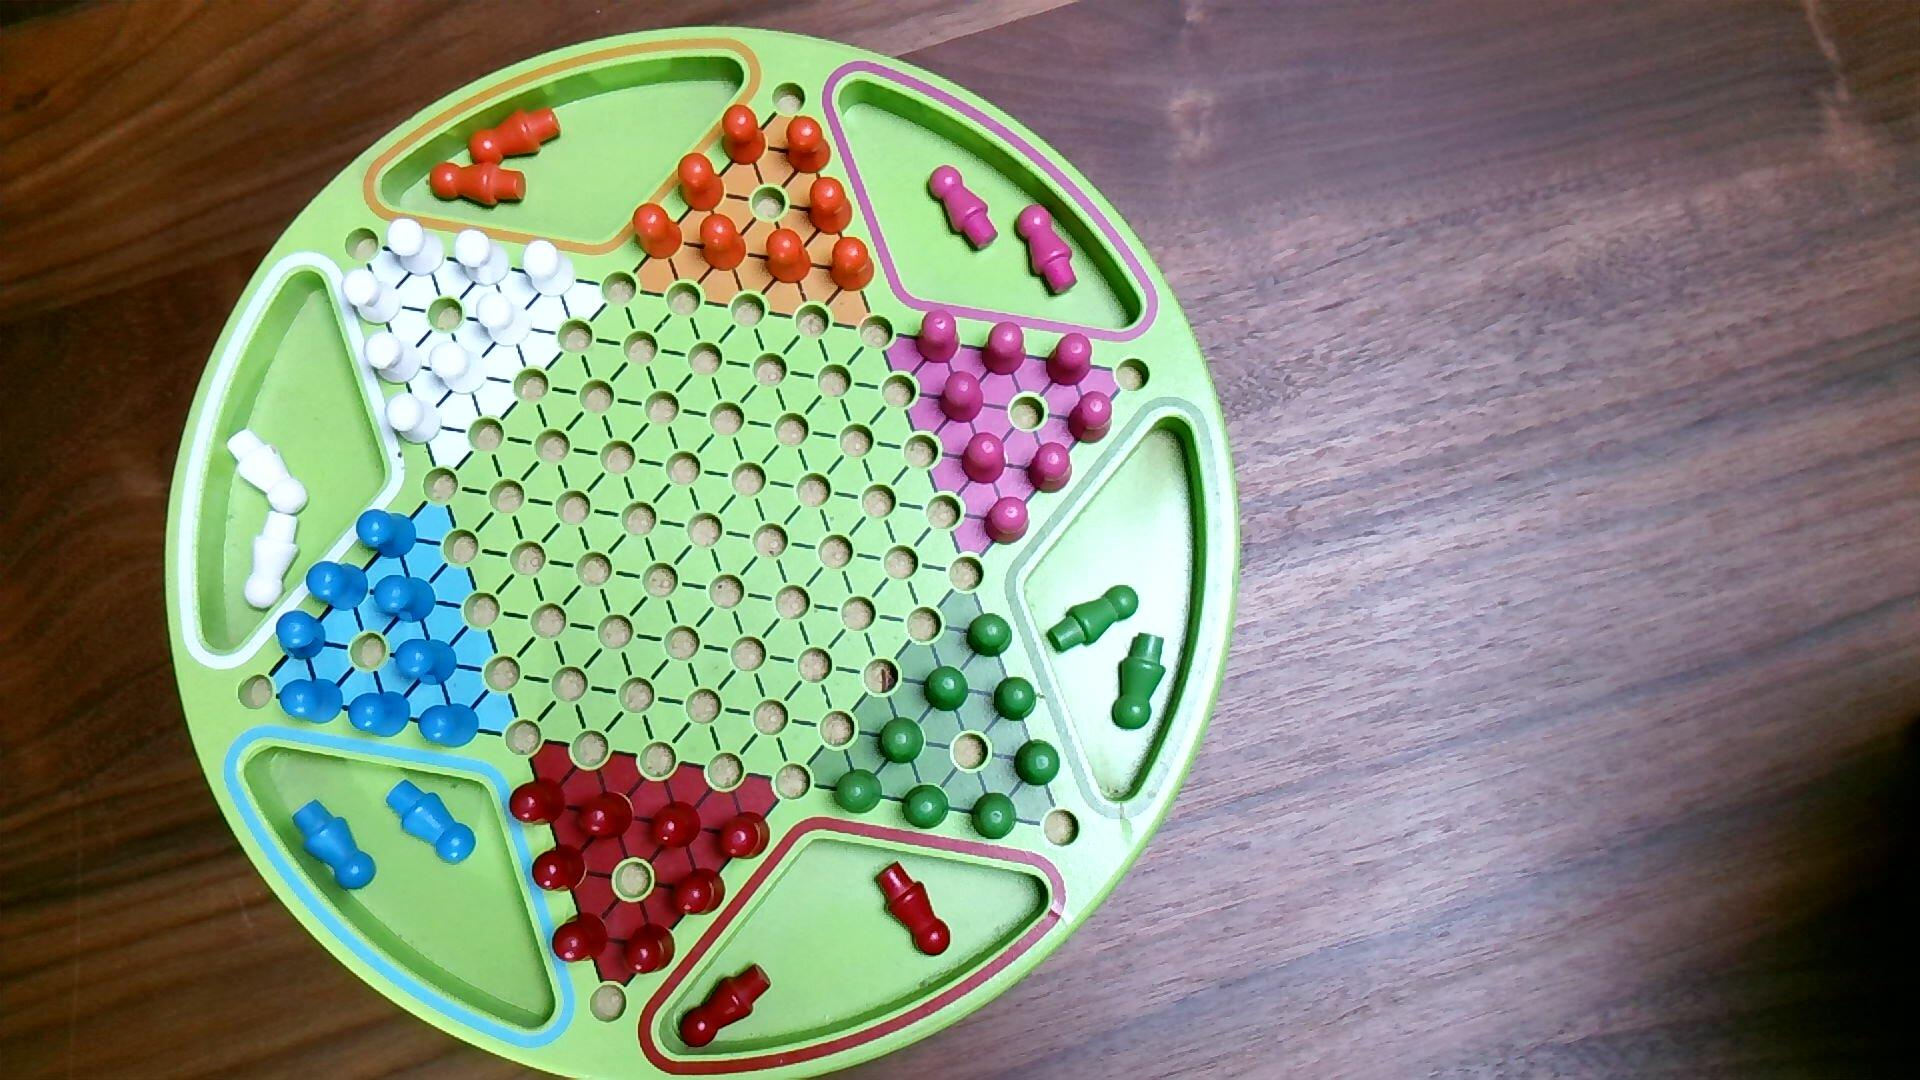B: (305, 559, 371, 615), (373, 574, 438, 626), (347, 688, 413, 740), (417, 702, 483, 752), (278, 678, 345, 727), (356, 508, 418, 560), (396, 640, 459, 688), (274, 609, 328, 663)
G: (832, 767, 884, 818), (877, 716, 927, 767), (1013, 738, 1063, 790), (971, 790, 1019, 843), (922, 665, 971, 713), (901, 783, 952, 829), (967, 612, 1015, 659), (992, 675, 1038, 724)
O: (676, 150, 728, 214), (632, 202, 684, 262), (721, 102, 769, 167), (698, 212, 748, 274), (764, 227, 814, 287), (806, 175, 855, 237), (785, 113, 833, 175), (828, 235, 877, 294)
R: (550, 909, 611, 965), (576, 789, 636, 843), (621, 920, 676, 977), (531, 843, 588, 895), (508, 778, 568, 827), (649, 799, 704, 852), (671, 866, 728, 918), (717, 810, 771, 862)
R2: (980, 320, 1029, 378), (1044, 332, 1095, 388), (1025, 440, 1073, 497), (1065, 390, 1114, 447), (914, 309, 963, 365), (938, 369, 986, 425), (960, 430, 1007, 487), (982, 496, 1033, 549)
W: (386, 218, 448, 280), (340, 266, 404, 327), (452, 227, 513, 289), (475, 290, 535, 349), (429, 340, 491, 398), (365, 330, 426, 388), (524, 239, 578, 301), (385, 392, 444, 447)
